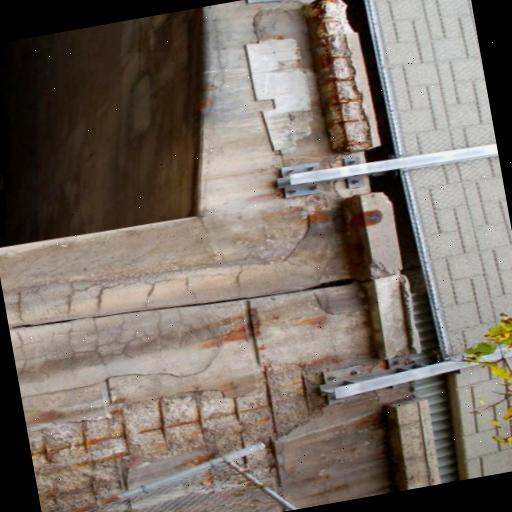spalling: (27, 369, 321, 512), (306, 0, 368, 152)
